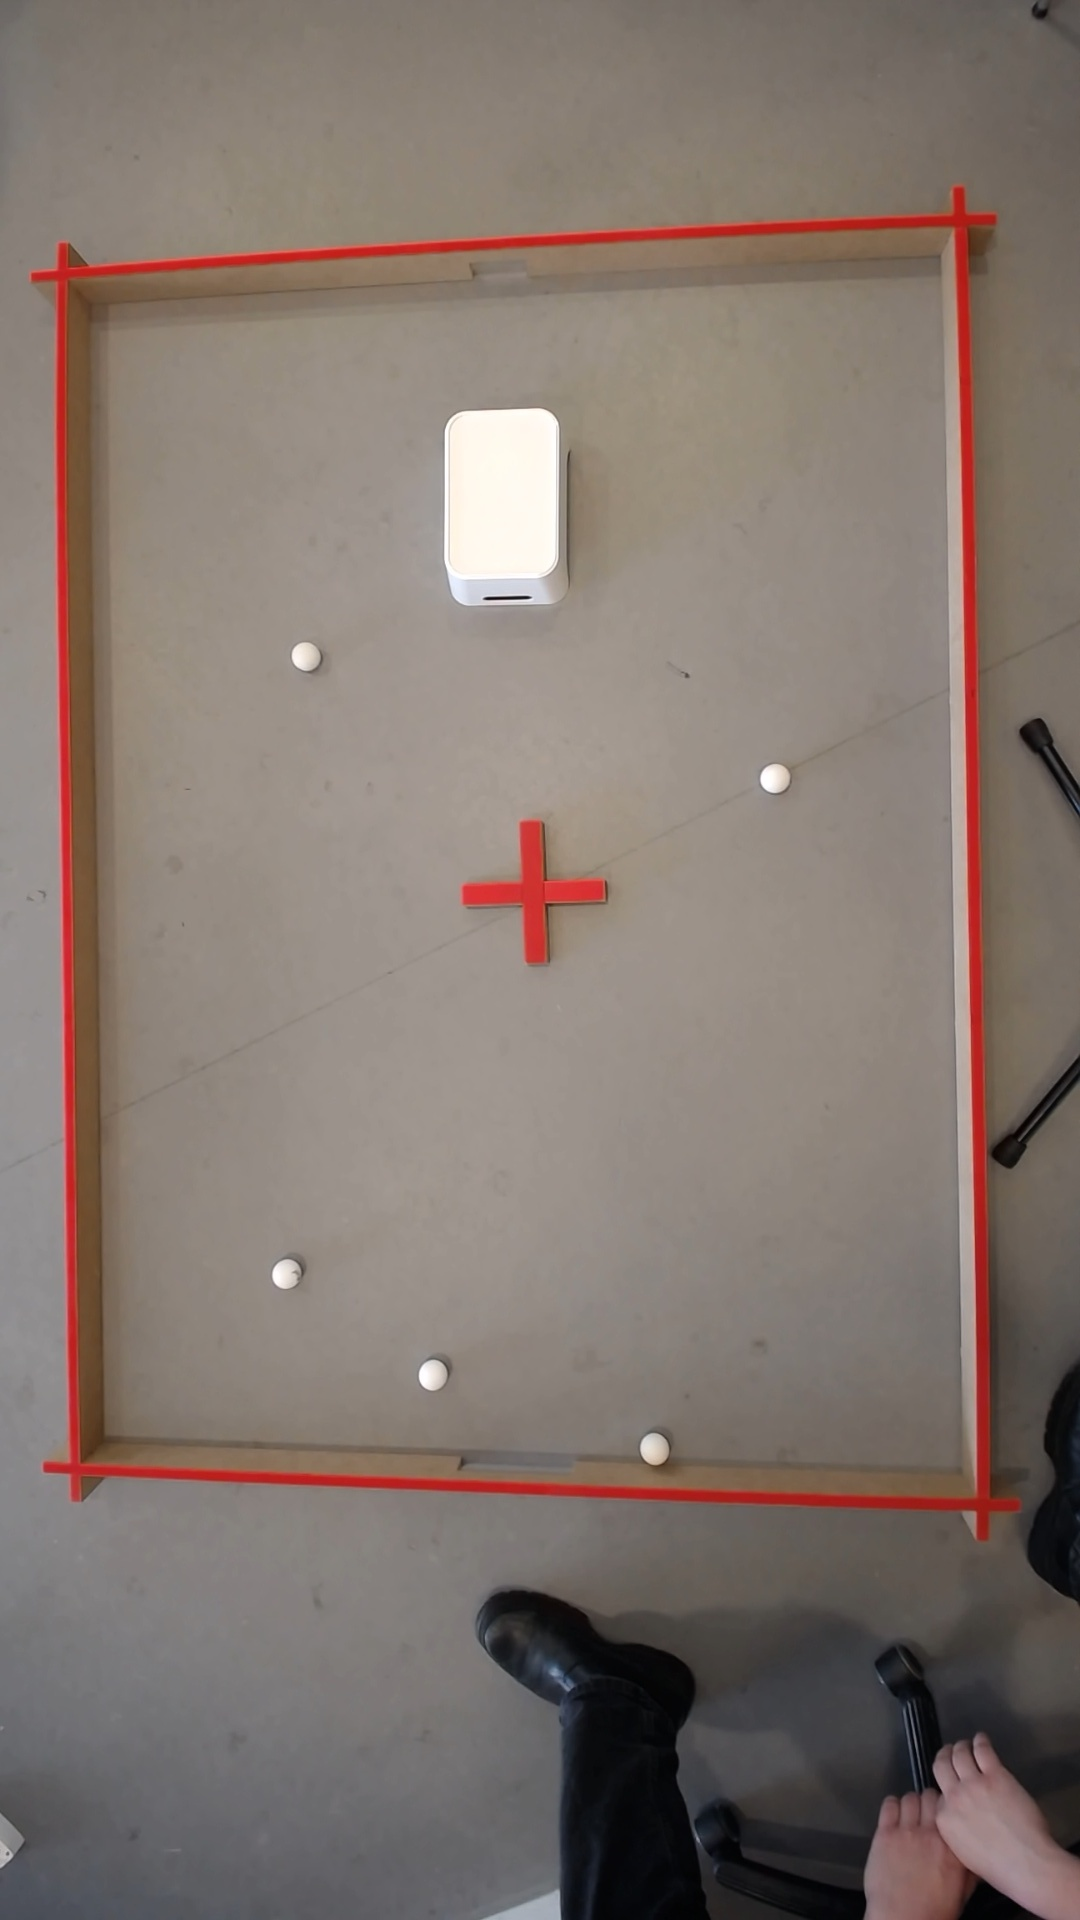balls: (444, 407, 559, 605), (754, 758, 789, 795), (413, 1356, 447, 1391), (266, 1255, 299, 1290), (286, 637, 316, 670)
car: (634, 1432, 662, 1462)
